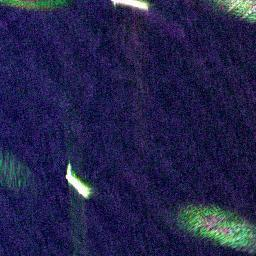Ship: (61, 166, 93, 198), (105, 0, 157, 10)
